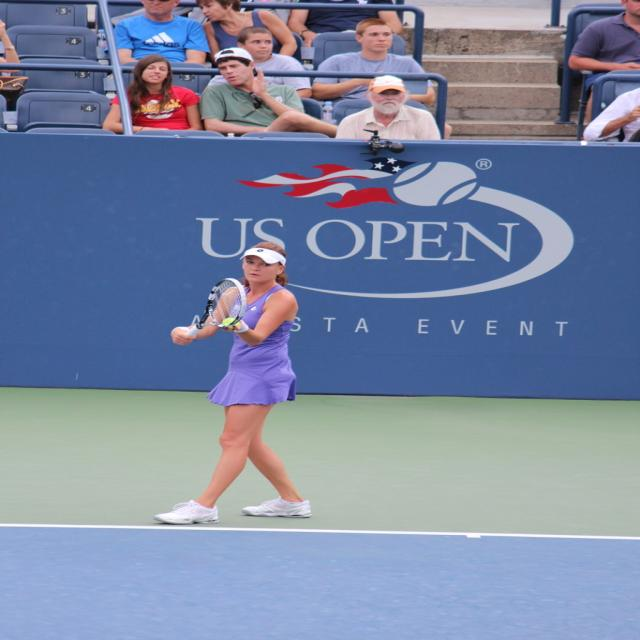Tennis ball: (220, 316, 238, 326)
